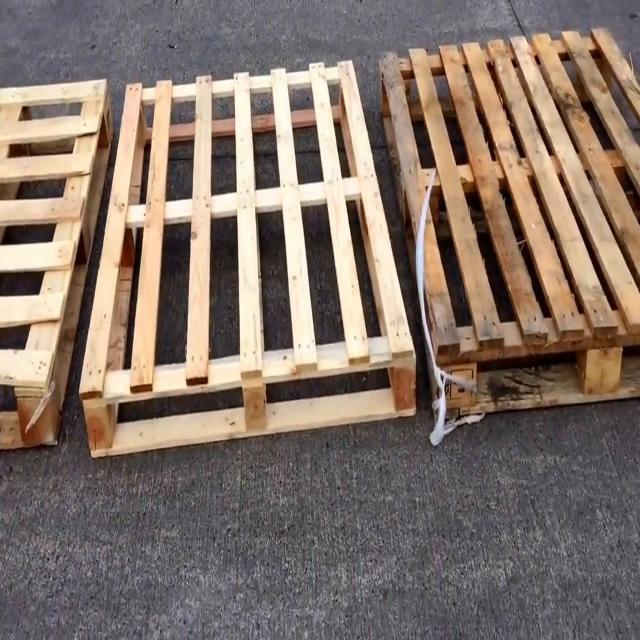Palette: (72, 48, 418, 468), (377, 26, 640, 426), (0, 78, 118, 455)
